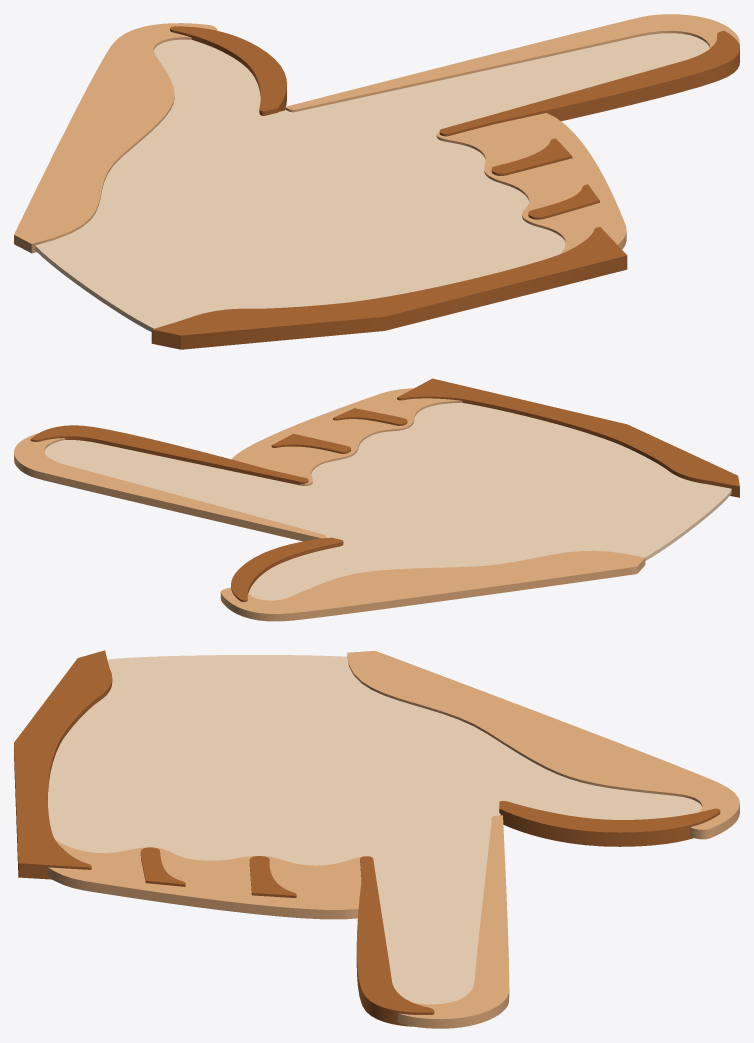
Rendered from emoji_u1f449_1f3fb.glb.
3 views of the same model, one above another, from view 1: azimuth 30°, elevation 25°; view 2: azimuth 150°, elevation 25°; view 3: azimuth 270°, elevation 25° (orthographic). The views are drawn at different scales.
Visible parts, largest first — view 1: emoji_u1f449_1f3fb; view 2: emoji_u1f449_1f3fb; view 3: emoji_u1f449_1f3fb.
Part boxes in pixels (<box>): emoji_u1f449_1f3fb: <box>14,14,739,349</box>; emoji_u1f449_1f3fb: <box>14,378,739,621</box>; emoji_u1f449_1f3fb: <box>14,650,739,1028</box>.
Bounding box in the file's own units: 0.0331 × 0.0006 × 0.0276.
